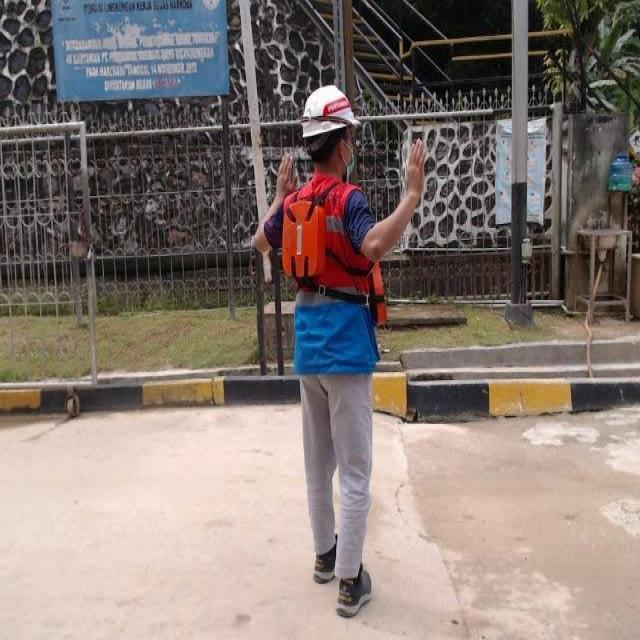vest: (280, 193, 329, 283)
